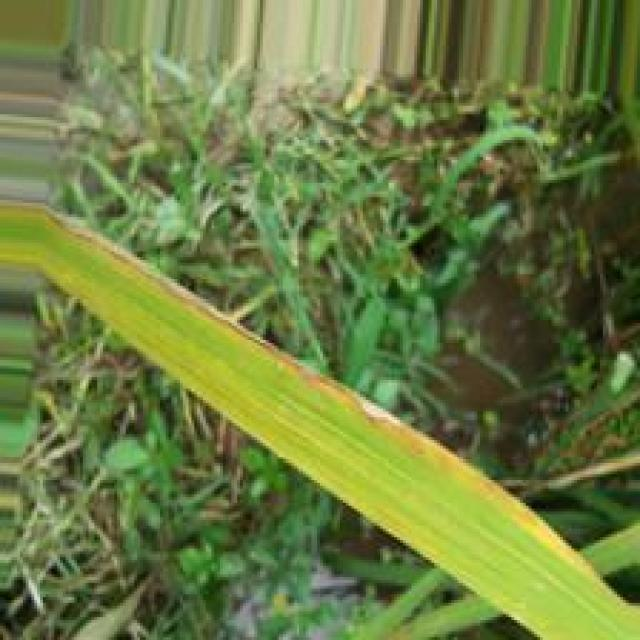Bacterial_Leaf_Blight: (42, 205, 591, 572)
